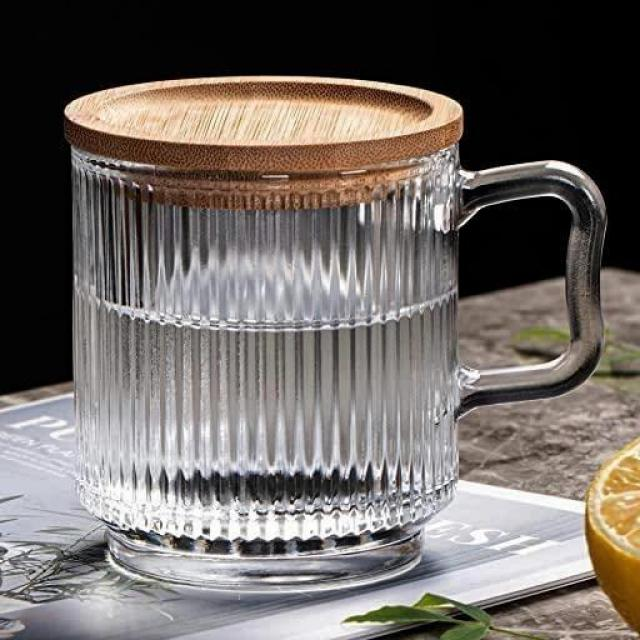glass-mug: (60, 69, 610, 596)
